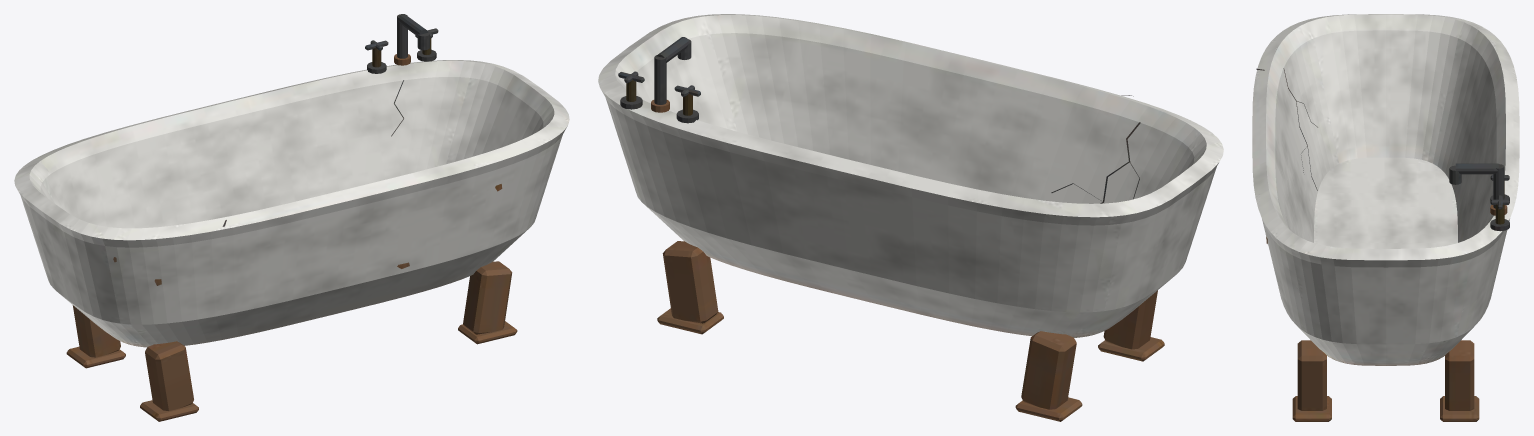
Rendered from BR30_cracked_bathtub.glb.
3 renders of one model, left to right at view 1: azimuth 30°, elevation 25°; view 2: azimuth 150°, elevation 25°; view 3: azimuth 270°, elevation 25°, orthographic. The views are drawn at different scales.
Parts seen in each view (by area): view 1: Cracked cast iron bathtub; view 2: Cracked cast iron bathtub; view 3: Cracked cast iron bathtub.
Boxes of the visible parts, bbox=[...] form: Cracked cast iron bathtub: bbox=[14, 14, 569, 421]; Cracked cast iron bathtub: bbox=[598, 14, 1223, 421]; Cracked cast iron bathtub: bbox=[1252, 14, 1519, 421].
Size of the model in its own units: 1.7 by 0.812 by 0.78.
Materials: 5 (5 with a texture image).
